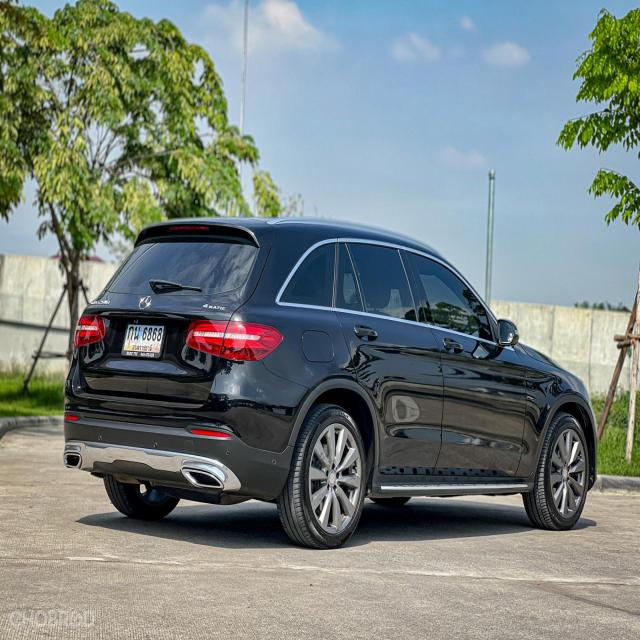license_plate: (121, 319, 167, 356)
